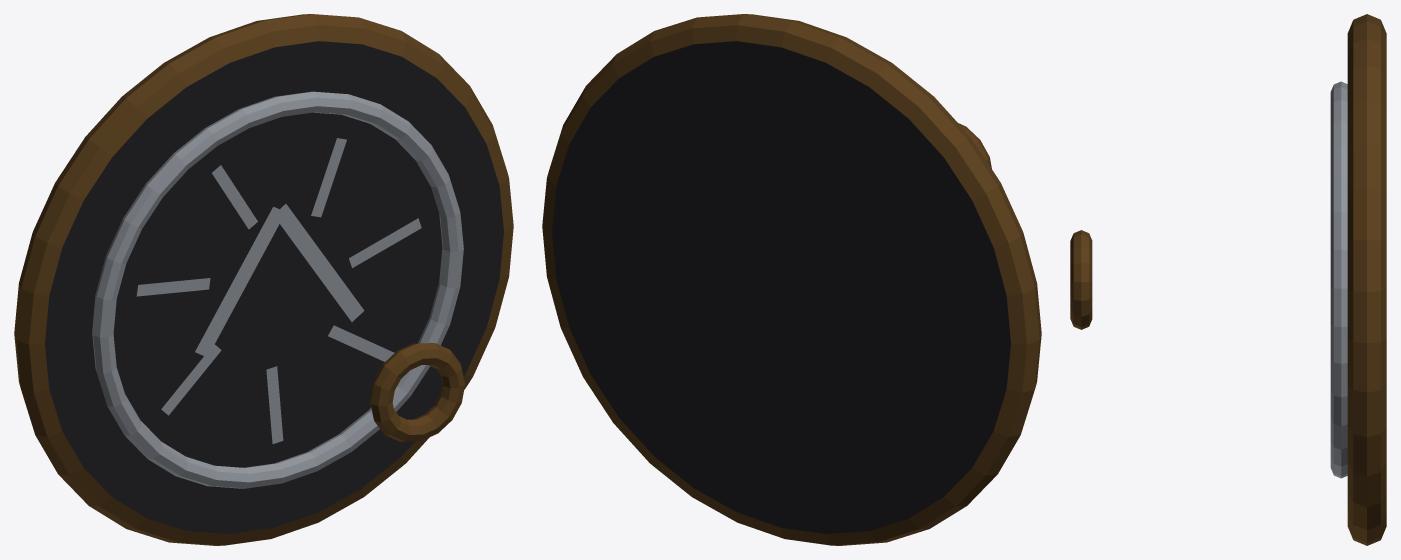
3 views of the same model, side by side, from view 1: azimuth 30°, elevation 25°; view 2: azimuth 150°, elevation 25°; view 3: azimuth 270°, elevation 25° (orthographic). The views are drawn at different scales.
Visible parts, largest first — view 1: VeilSealAmulet1348; view 2: VeilSealAmulet1348; view 3: VeilSealAmulet1348.
Boxes of the visible parts, x1,y1,x2,y2 form: VeilSealAmulet1348: (14, 14, 513, 545); VeilSealAmulet1348: (542, 14, 1041, 545); VeilSealAmulet1348: (1070, 14, 1386, 545).
Bounding box in the file's own units: 0.082 × 0.082 × 0.0487.
